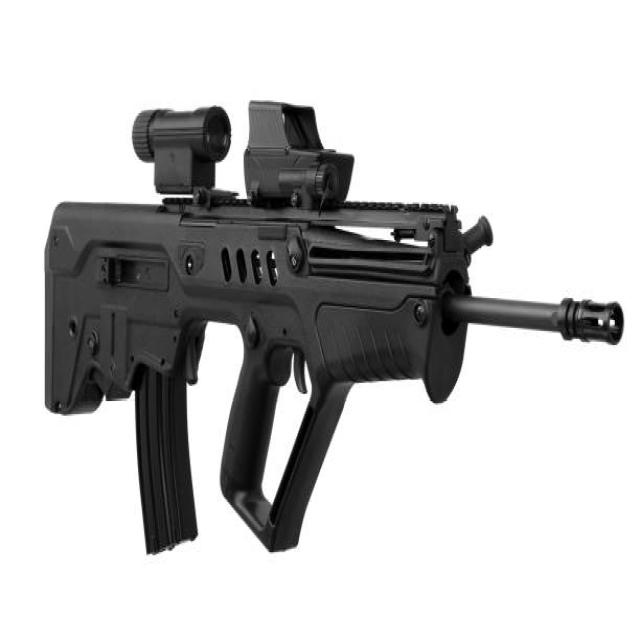rifle: (41, 74, 630, 571)
